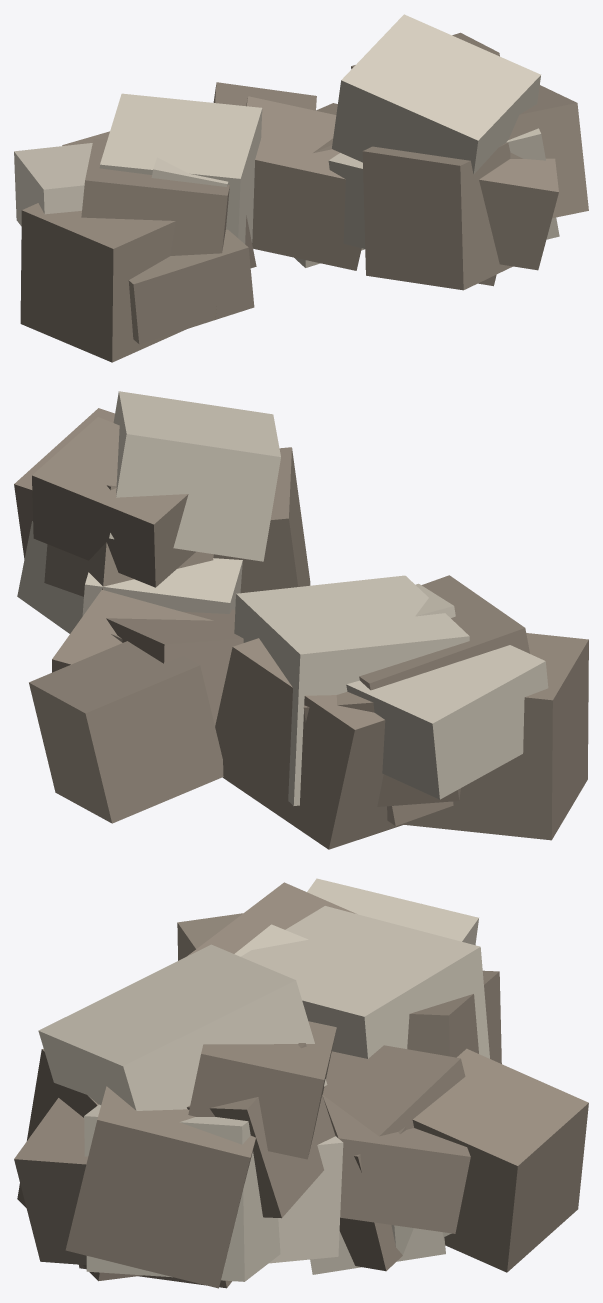
The model's file is rockCluster.glb.
3 renders of one model, top to bottom at view 1: azimuth 30°, elevation 25°; view 2: azimuth 150°, elevation 25°; view 3: azimuth 270°, elevation 25°, orthographic. The views are drawn at different scales.
Visible parts, largest first — view 1: rockCluster_concreteDark, rockCluster_concrete; view 2: rockCluster_concreteDark, rockCluster_concrete; view 3: rockCluster_concreteDark, rockCluster_concrete.
Part boxes in pixels (x1,y1,x2,y2): rockCluster_concreteDark: [20, 32, 588, 362]; rockCluster_concrete: [14, 14, 559, 267]; rockCluster_concreteDark: [14, 408, 588, 849]; rockCluster_concrete: [17, 391, 548, 805]; rockCluster_concreteDark: [14, 882, 588, 1288]; rockCluster_concrete: [38, 878, 489, 1281].
Size of the model in its own units: 4.64 by 2.18 by 3.67.
